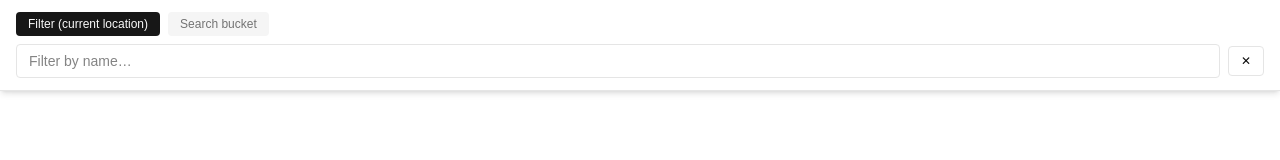
SearchBox — filter mode › shows result items returned by searchLocalFilter
In the search field with test id "search-input": (618, 61) [16,44,1220,78], type "image"
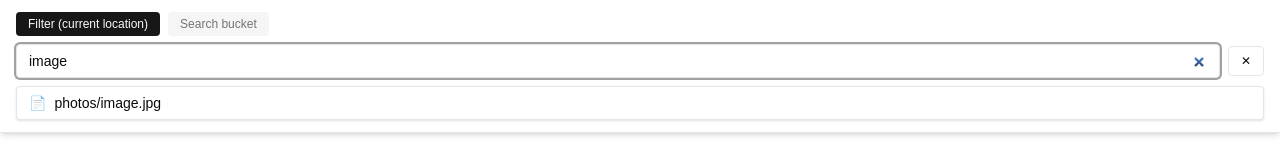
expect the element with test id "search-result-item" is shown: met, box [29,95,161,111]
